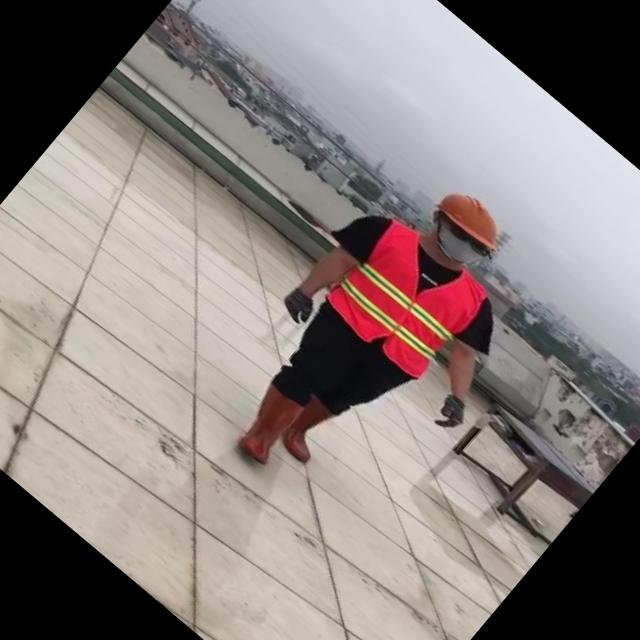hard_hat: (430, 176, 519, 260)
safety_vest: (320, 210, 498, 386)
vehicle: (172, 126, 595, 563)
work_boots: (222, 379, 312, 471), (272, 394, 346, 468)
